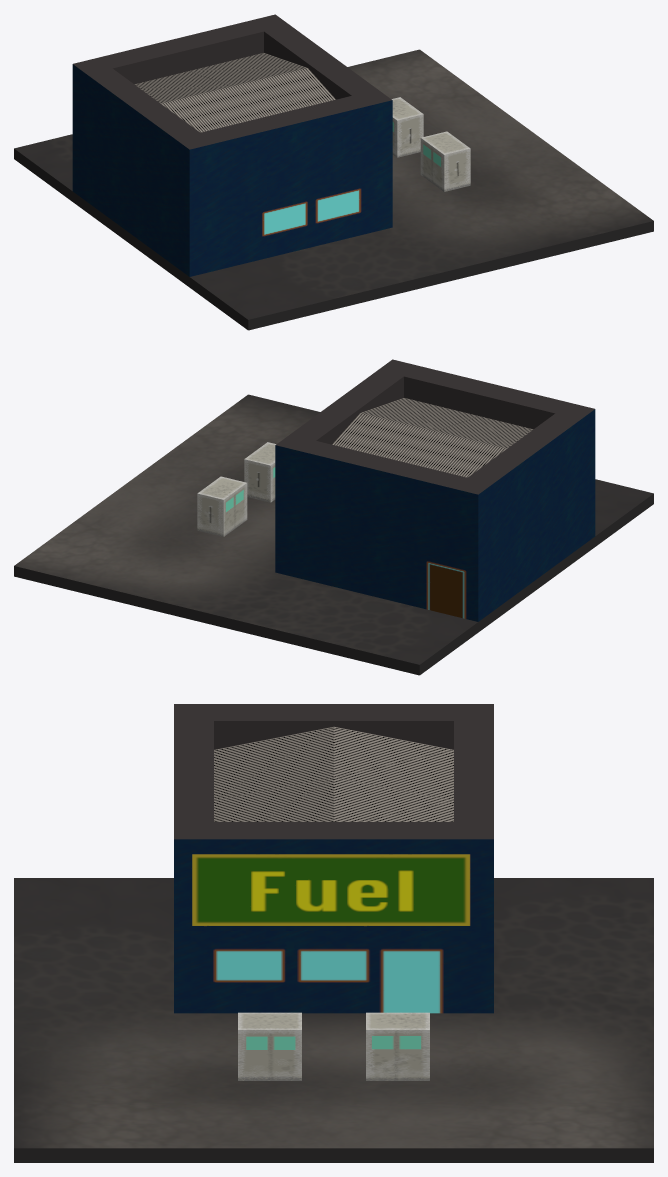
The model's file is ServiceStation_grade_1_Tile.fbx.
3 views of the same model, one above another, from view 1: azimuth 30°, elevation 25°; view 2: azimuth 150°, elevation 25°; view 3: azimuth 270°, elevation 25° (orthographic). The views are drawn at different scales.
Visible parts, largest first — view 1: Cube; view 2: Cube; view 3: Cube.
Part boxes in pixels (box(x1,y1,x2,y2)): Cube: box(14, 14, 653, 330); Cube: box(14, 359, 653, 675); Cube: box(14, 704, 653, 1162).
Bounding box in the file's own units: 200 × 65 × 200.
